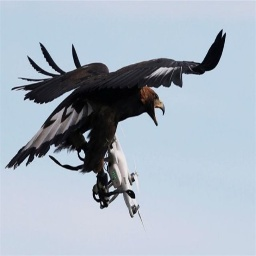Bird: (0, 22, 228, 173)
UAV: (86, 131, 151, 227)
